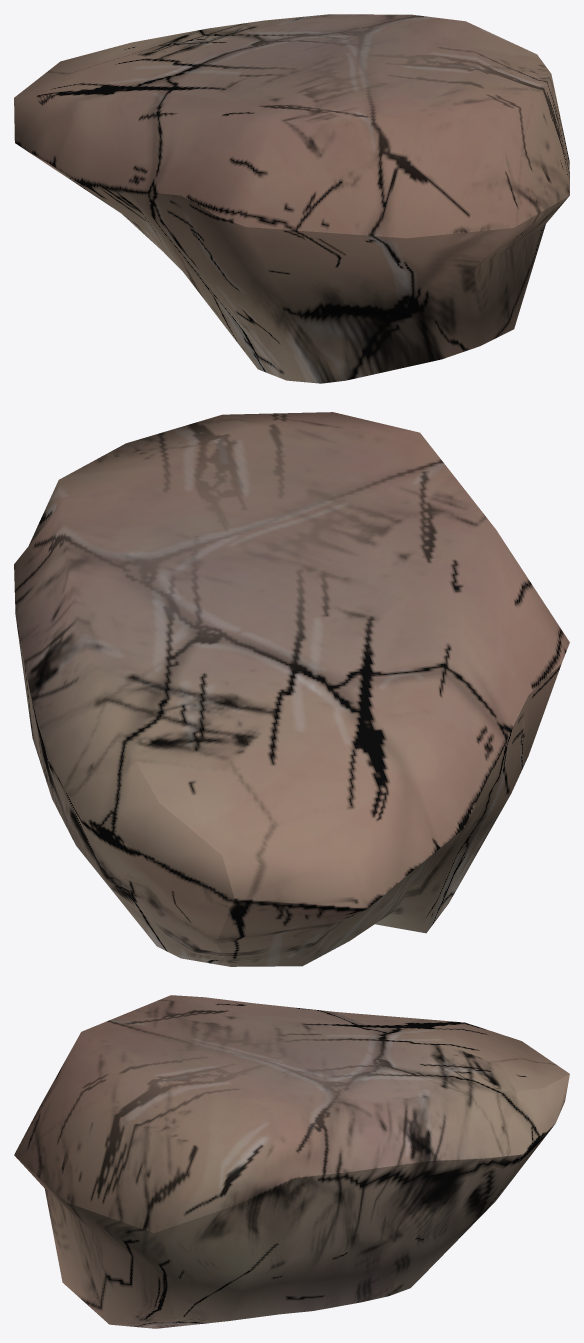
The model's file is Rock_02C.fbx.
The picture shows the model from 3 angles, top to bottom: view 1: azimuth 30°, elevation 25°; view 2: azimuth 150°, elevation 25°; view 3: azimuth 270°, elevation 25°; orthographic projection. The views are drawn at different scales.
Parts seen in each view (by area): view 1: Rock01:Mesh1; view 2: Rock01:Mesh1; view 3: Rock01:Mesh1.
Part boxes in pixels (x1=…): Rock01:Mesh1: x1=14, y1=14, x2=569, y2=383; Rock01:Mesh1: x1=14, y1=412, x2=569, y2=966; Rock01:Mesh1: x1=14, y1=995, x2=569, y2=1328.
Bounding box in the file's own units: 7.4 × 5.11 × 9.21.
